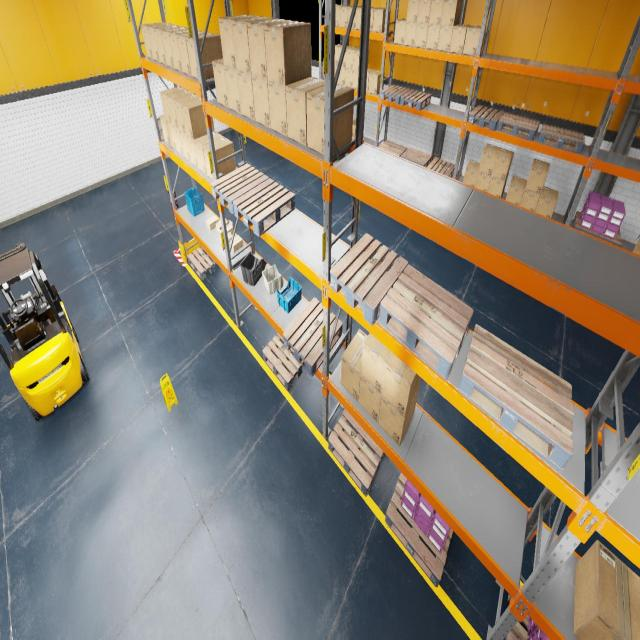box: (574, 540, 640, 639), (306, 84, 354, 154), (264, 21, 311, 86), (286, 76, 324, 146), (378, 383, 420, 446), (247, 19, 290, 80), (382, 352, 421, 418), (232, 16, 273, 74), (218, 15, 259, 69), (341, 329, 367, 402), (361, 333, 391, 395), (185, 33, 223, 79), (176, 31, 210, 76), (202, 137, 235, 181), (181, 98, 214, 139), (168, 30, 200, 72), (194, 131, 223, 175), (153, 26, 184, 65), (160, 27, 188, 68), (268, 80, 288, 137), (173, 94, 201, 134), (147, 24, 176, 62), (166, 90, 194, 129), (359, 375, 381, 423), (160, 86, 187, 124), (141, 22, 168, 59), (252, 75, 270, 129), (237, 70, 255, 121), (525, 158, 549, 194), (212, 59, 229, 108), (224, 66, 241, 114), (491, 147, 514, 180), (535, 186, 558, 218), (462, 26, 486, 56), (479, 144, 500, 176), (449, 24, 472, 53), (505, 175, 527, 205), (520, 182, 540, 212), (441, 0, 462, 25), (488, 174, 508, 198), (463, 160, 480, 187), (186, 134, 198, 168), (373, 8, 390, 32), (438, 25, 453, 51), (179, 130, 191, 162), (428, 0, 444, 24), (426, 23, 440, 50), (368, 71, 384, 94), (353, 48, 369, 70), (414, 23, 428, 48), (172, 125, 183, 156), (166, 120, 177, 150), (339, 5, 353, 28), (418, 0, 432, 23), (475, 172, 491, 192), (404, 22, 417, 46), (394, 18, 406, 44), (160, 114, 170, 145), (346, 47, 360, 69), (338, 46, 352, 68), (347, 6, 361, 28), (406, 0, 419, 22), (366, 68, 376, 92), (370, 7, 380, 31), (229, 235, 243, 252), (335, 4, 345, 27), (220, 220, 233, 236), (206, 215, 219, 230), (220, 232, 232, 247), (216, 219, 228, 233), (632, 234, 640, 254), (344, 68, 352, 87), (337, 67, 345, 85), (335, 45, 342, 65), (355, 7, 361, 29), (352, 70, 358, 89), (352, 120, 356, 138), (334, 66, 338, 83)
forklift: (0, 242, 89, 420)
pallets: (458, 324, 574, 472), (378, 265, 474, 380), (385, 472, 453, 588), (330, 233, 408, 325), (328, 409, 385, 496), (283, 298, 342, 377), (233, 178, 295, 236), (211, 163, 268, 214), (262, 332, 306, 390), (573, 211, 622, 246), (538, 124, 585, 154), (505, 584, 529, 640), (496, 112, 540, 140), (187, 246, 217, 280), (468, 105, 505, 131), (400, 90, 431, 110), (401, 148, 432, 167), (380, 85, 410, 104), (427, 157, 455, 177), (378, 140, 407, 156), (333, 159, 341, 165)
